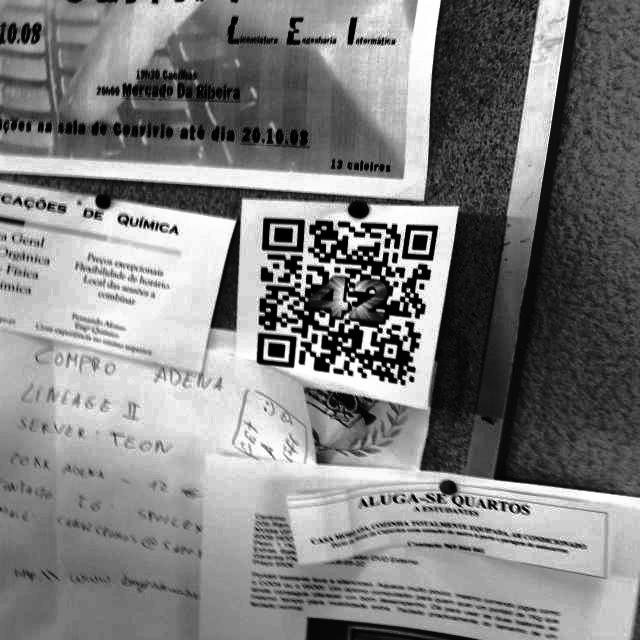qr_code: (257, 219, 438, 387)
